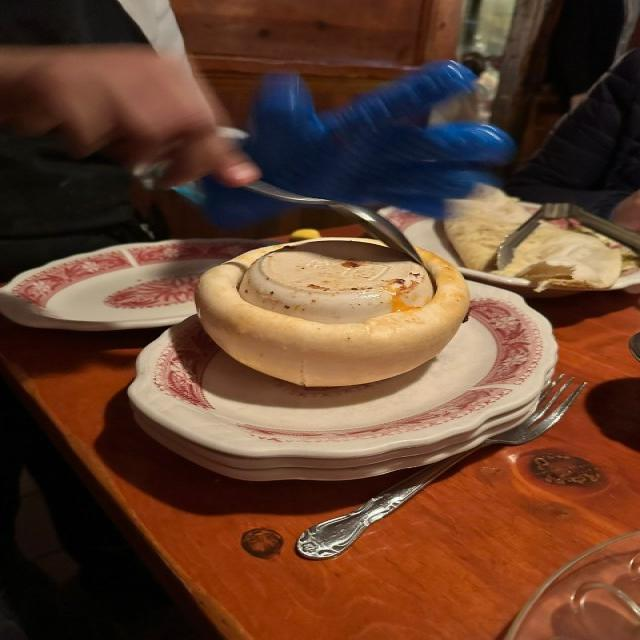Plate: (126, 276, 558, 481), (0, 236, 285, 332), (400, 201, 639, 298)
